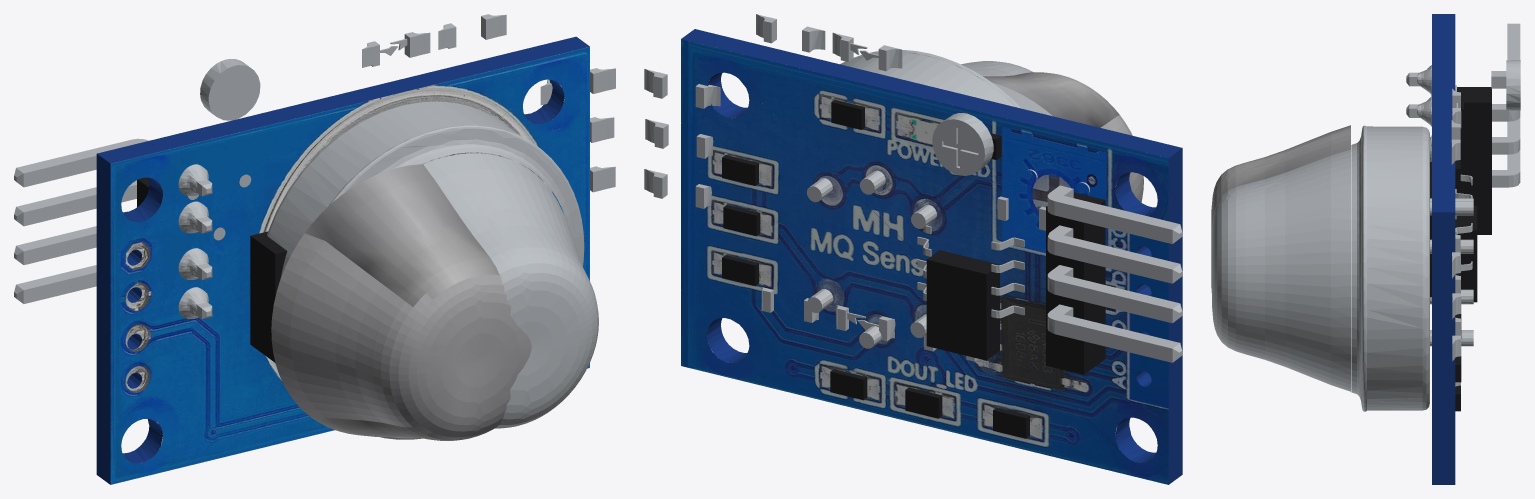
File: mq135-air-quality.glb
3 renders of one model, left to right at view 1: azimuth 30°, elevation 25°; view 2: azimuth 150°, elevation 25°; view 3: azimuth 270°, elevation 25°, orthographic. The views are drawn at different scales.
Parts seen in each view (by area): view 1: part_1, part_3, part_8, part_2, part_6; view 2: part_0, part_3, part_6, part_2, part_8; view 3: part_3, part_2, part_6, part_8.
Part boxes in pixels (x1,y1,x2,y2): part_1: [110, 46, 589, 484]; part_3: [14, 14, 615, 439]; part_8: [271, 164, 531, 440]; part_2: [96, 36, 589, 484]; part_6: [137, 177, 287, 362]; part_0: [681, 39, 1168, 484]; part_3: [644, 14, 1182, 362]; part_6: [722, 100, 1105, 438]; part_2: [681, 29, 1182, 484]; part_8: [983, 72, 1143, 202]; part_3: [1211, 23, 1520, 411]; part_2: [1432, 14, 1455, 484]; part_6: [1430, 87, 1491, 411]; part_8: [1211, 125, 1350, 290].
Bounding box in the file's own units: 3.79 × 2.33 × 2.13.
Materials: 6 (3 with a texture image).
